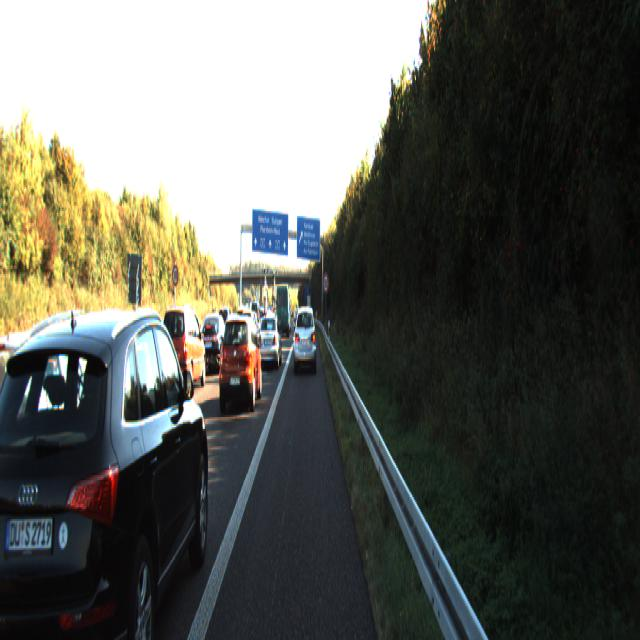Car: (0, 306, 212, 639), (0, 324, 108, 529), (21, 316, 106, 431), (158, 302, 207, 398), (218, 312, 262, 414), (198, 310, 231, 374), (294, 303, 316, 373), (257, 314, 282, 369), (276, 281, 290, 335)
